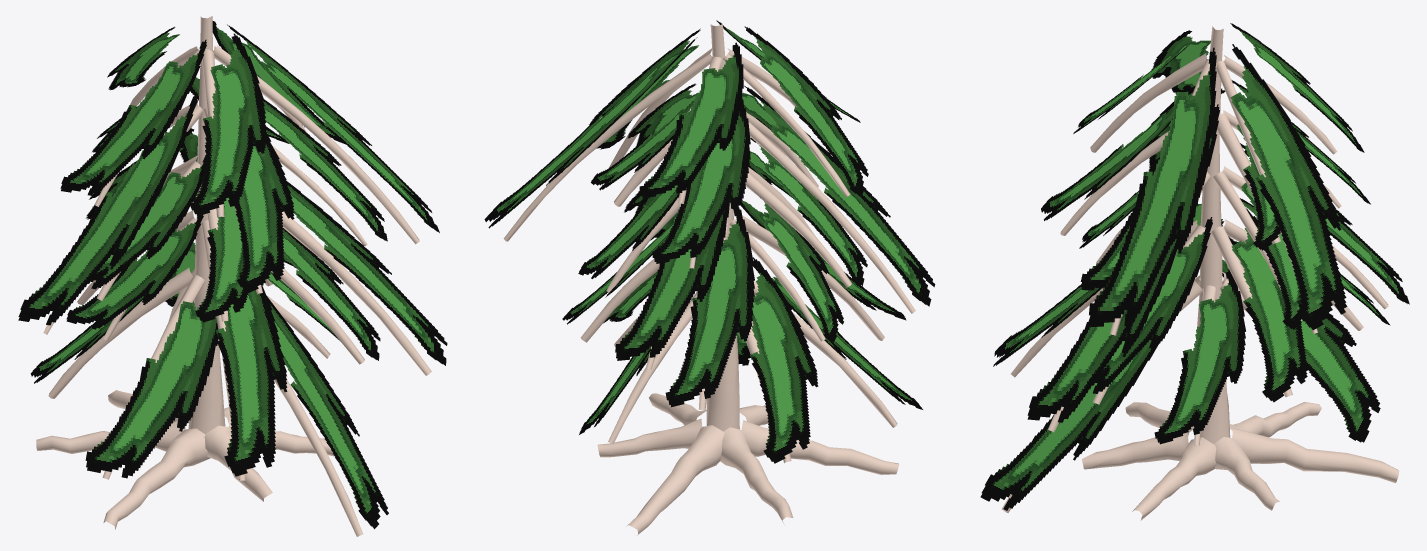
Rendered from crowned_pine_03.glb.
3 views of the same model, side by side, from view 1: azimuth 30°, elevation 25°; view 2: azimuth 150°, elevation 25°; view 3: azimuth 270°, elevation 25° (orthographic).
Parts seen in each view (by area): view 1: crowned_pine_03; view 2: crowned_pine_03; view 3: crowned_pine_03.
Boxes of the visible parts, left/top/right/bottom form: crowned_pine_03: left=18, top=16, right=447, bottom=536; crowned_pine_03: left=484, top=20, right=935, bottom=535; crowned_pine_03: left=980, top=23, right=1409, bottom=520.
Bounding box in the file's own units: 5.3 × 5.7 × 4.89.
2 materials, 1 textured.
